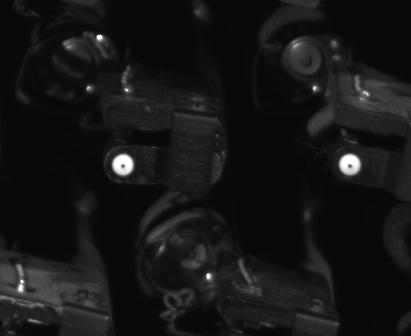fiber: (109, 150, 140, 182), (335, 149, 366, 181)
